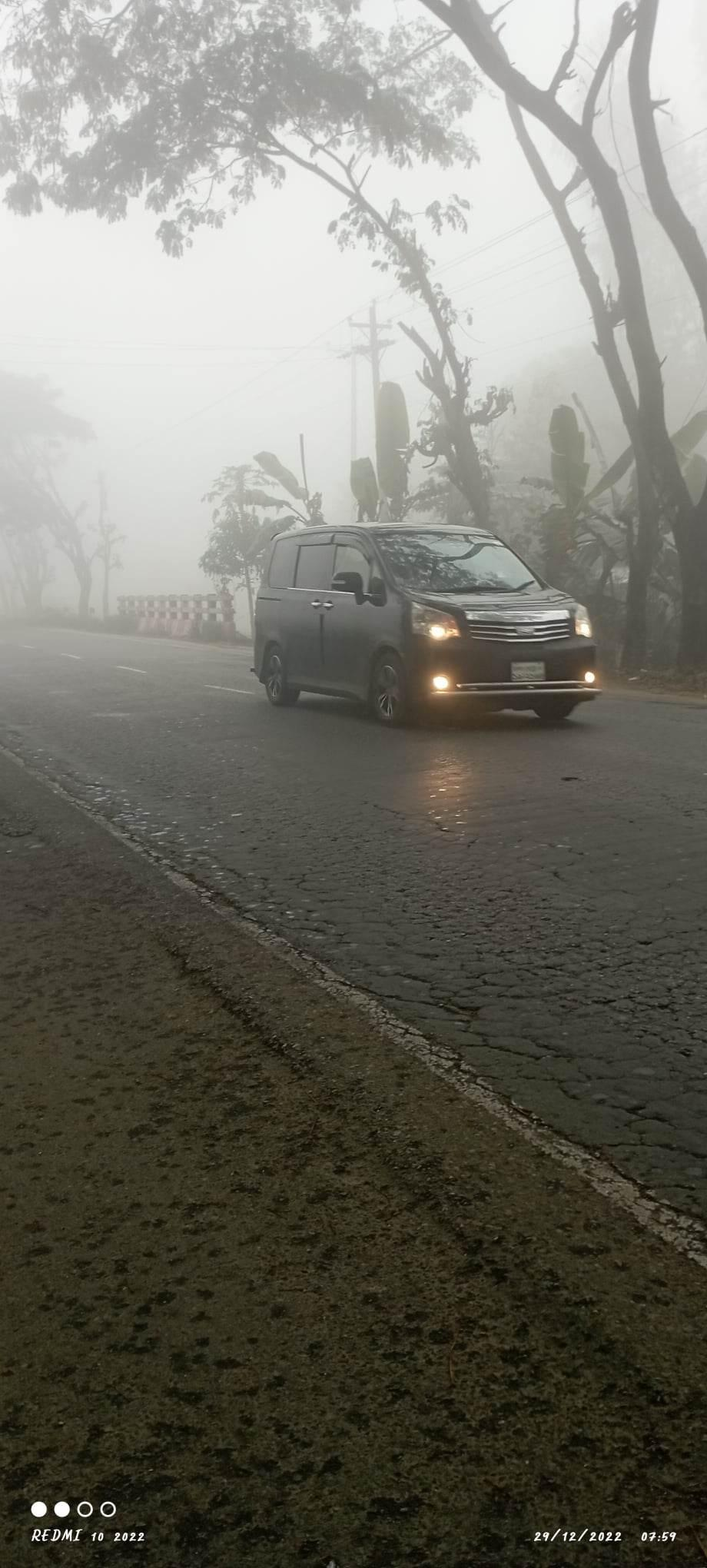Car: (219, 497, 615, 752)
